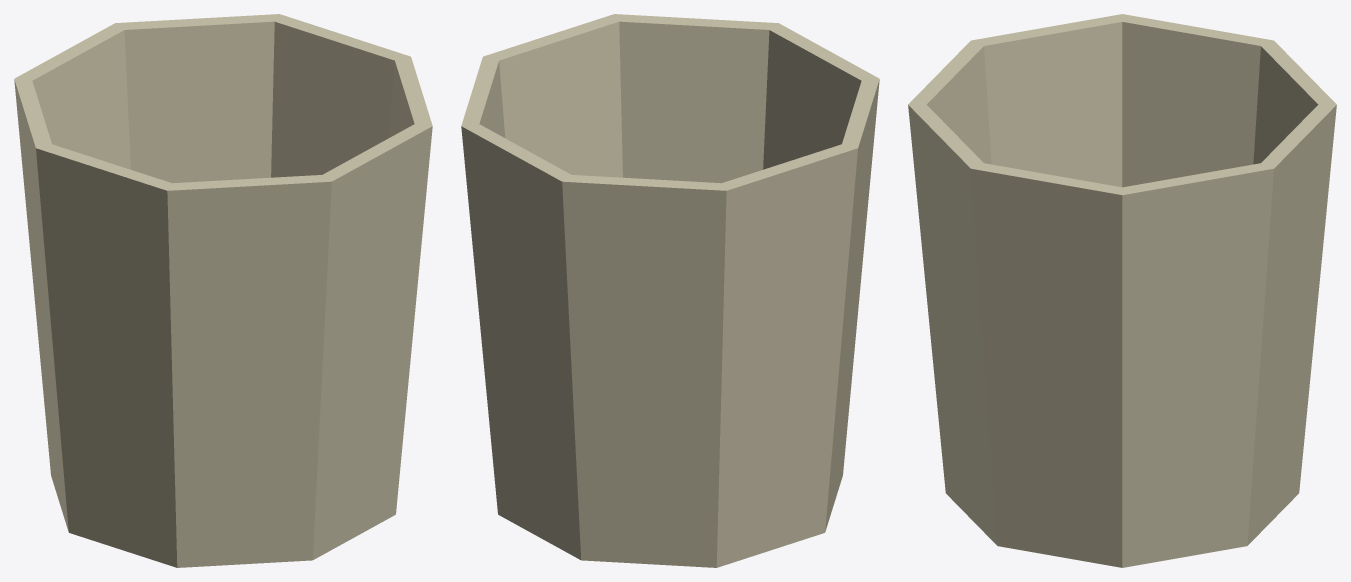
File: Glass.fbx
3 views of the same model, side by side, from view 1: azimuth 30°, elevation 25°; view 2: azimuth 150°, elevation 25°; view 3: azimuth 270°, elevation 25° (orthographic).
Parts seen in each view (by area): view 1: Cylinder; view 2: Cylinder; view 3: Cylinder.
Boxes of the visible parts, x1,y1,x2,y2 form: Cylinder: (14,14,432,567); Cylinder: (461,14,879,567); Cylinder: (908,14,1336,567).
Bounding box in the file's own units: 10 × 10 × 10.
